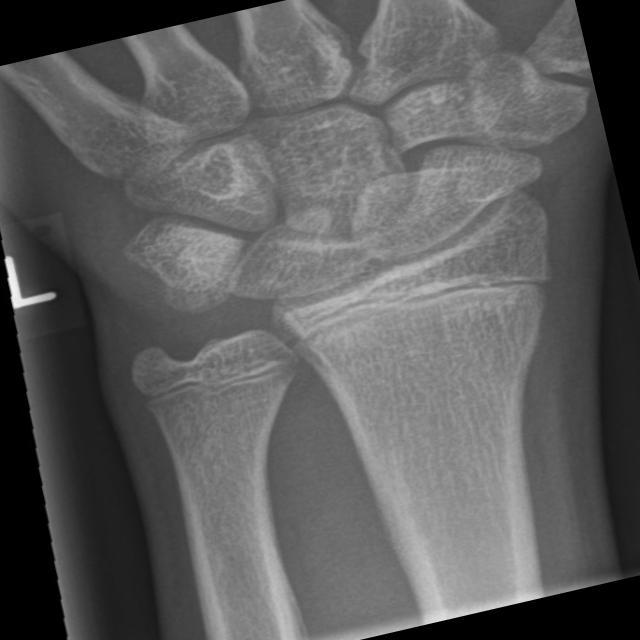fracture: (258, 234, 572, 374), (118, 323, 316, 428)
